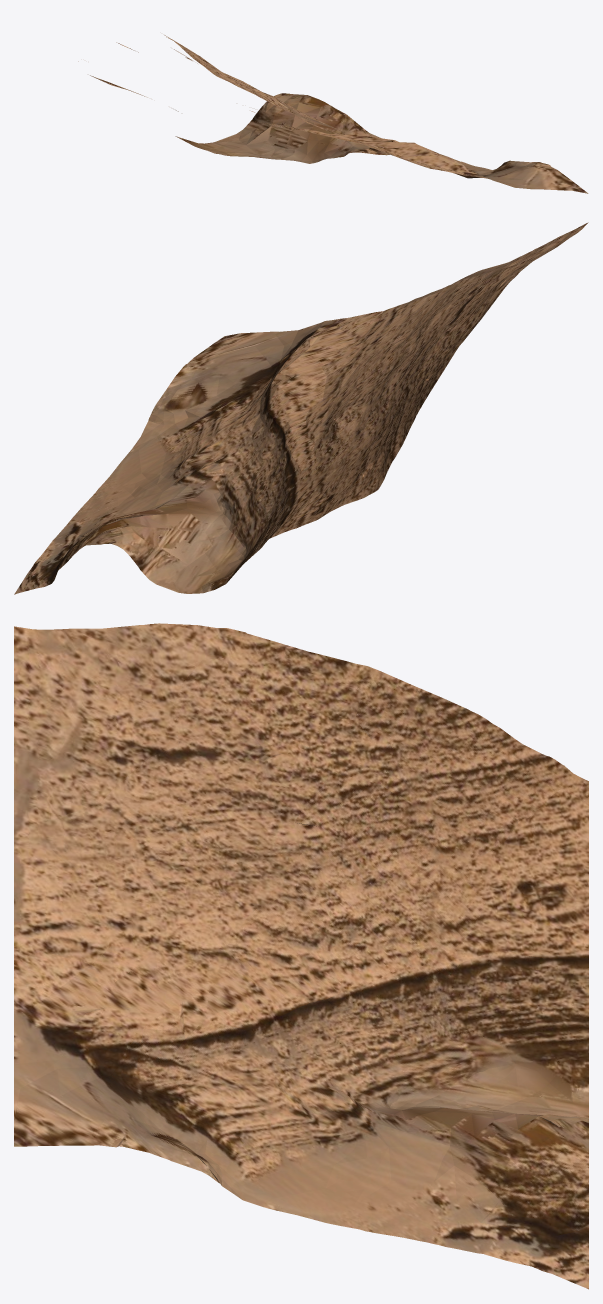
The picture shows the model from 3 angles, top to bottom: view 1: azimuth 30°, elevation 25°; view 2: azimuth 150°, elevation 25°; view 3: azimuth 270°, elevation 25°; orthographic projection. The views are drawn at different scales.
Bounding box in the file's own units: 2.09 × 1.7 × 2.09.
3 materials, 3 textured.
